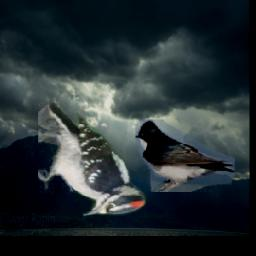Swallow: (135, 119, 235, 192)
Woodpecker: (39, 98, 148, 220)
